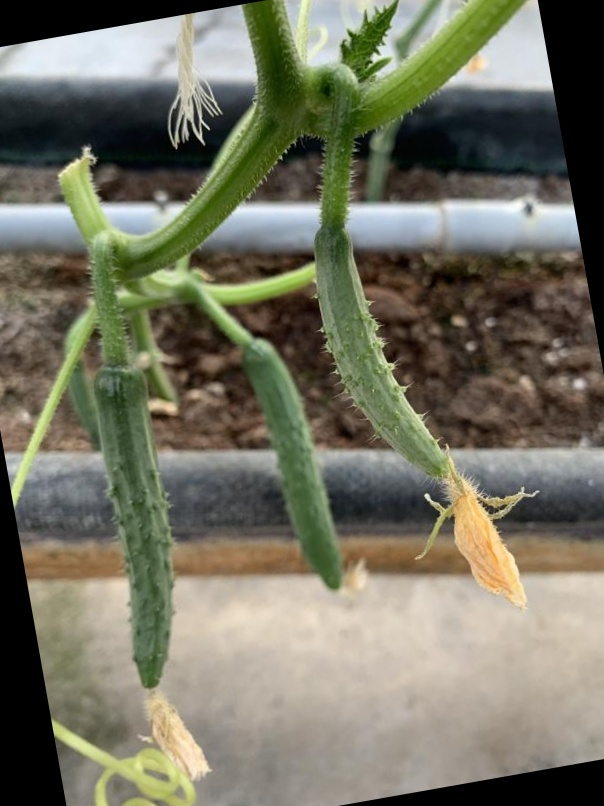bear: (305, 212, 537, 612), (72, 368, 195, 740)
growth: (236, 334, 355, 600)
